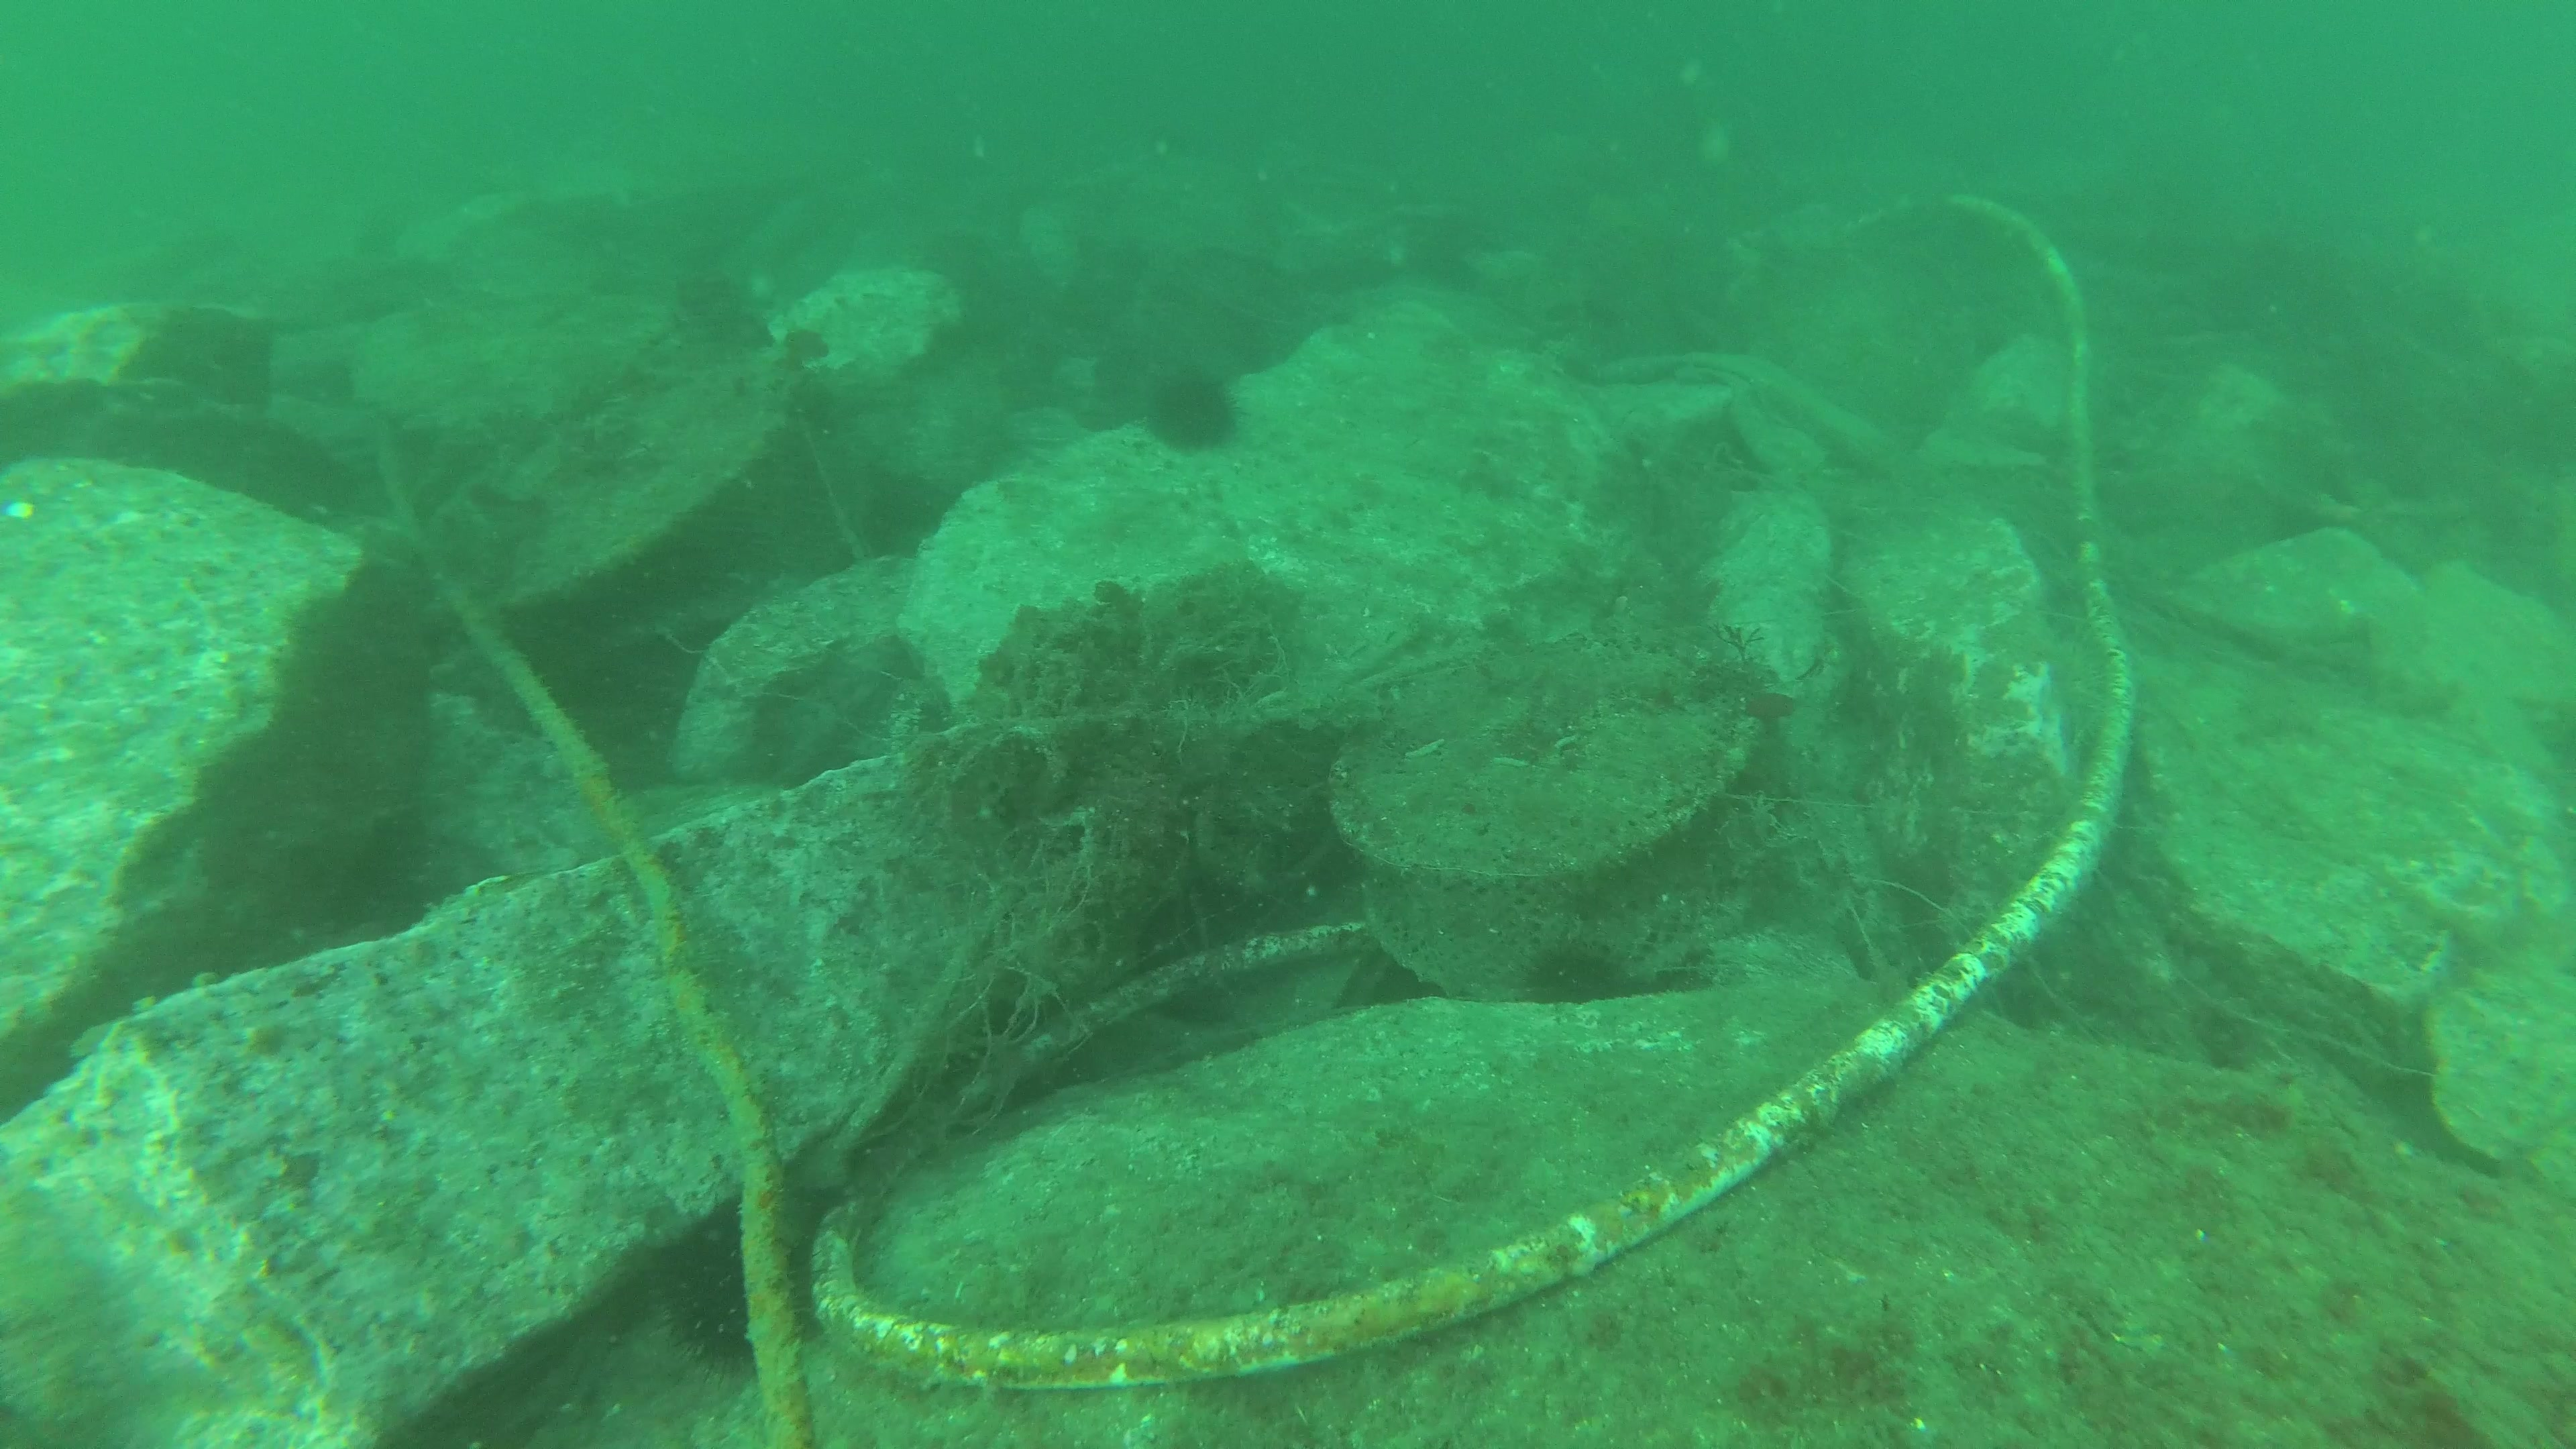echinus: (1132, 366, 1249, 458)
